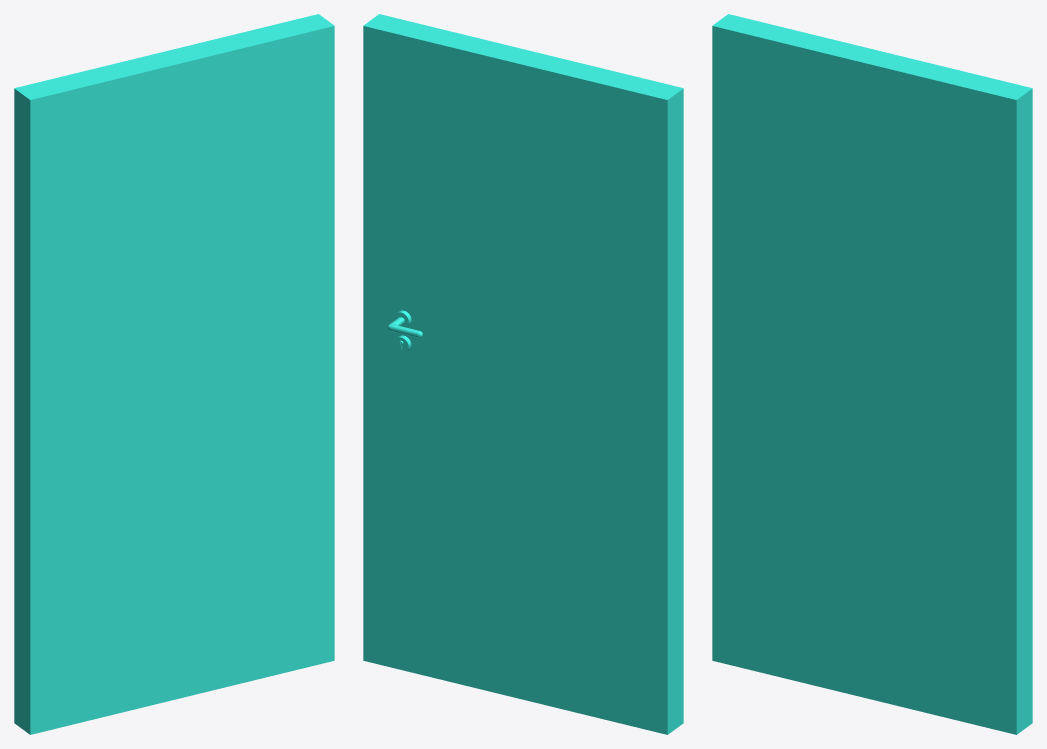
The model's file is porte.FBX.
The picture shows the model from 3 angles, left to right: view 1: azimuth 30°, elevation 25°; view 2: azimuth 150°, elevation 25°; view 3: azimuth 330°, elevation 25°; orthographic projection.
Parts seen in each view (by area): view 1: Box002; view 2: Box002; view 3: Box002.
Boxes of the visible parts, box(x1,y1,x2,y2) form: Box002: box(14, 14, 334, 734); Box002: box(363, 14, 683, 734); Box002: box(712, 14, 1032, 734).
Bounding box in the file's own units: 40.26 × 80.21 × 6.97.
